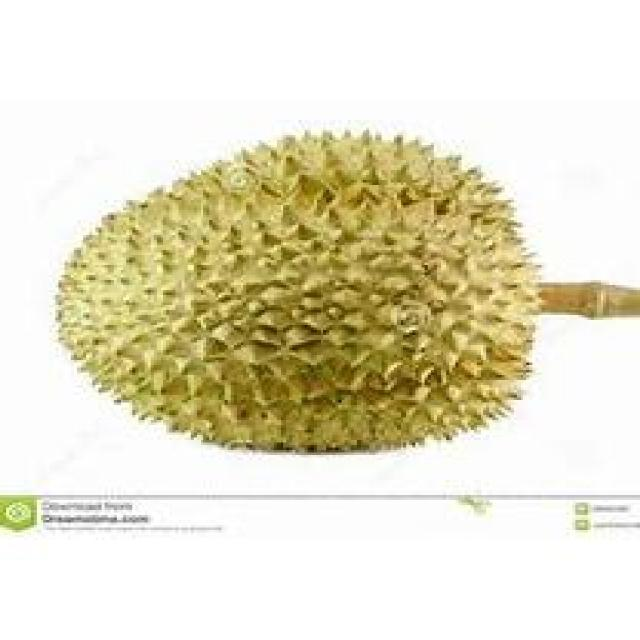fruit: (12, 97, 378, 495), (250, 98, 578, 490)
